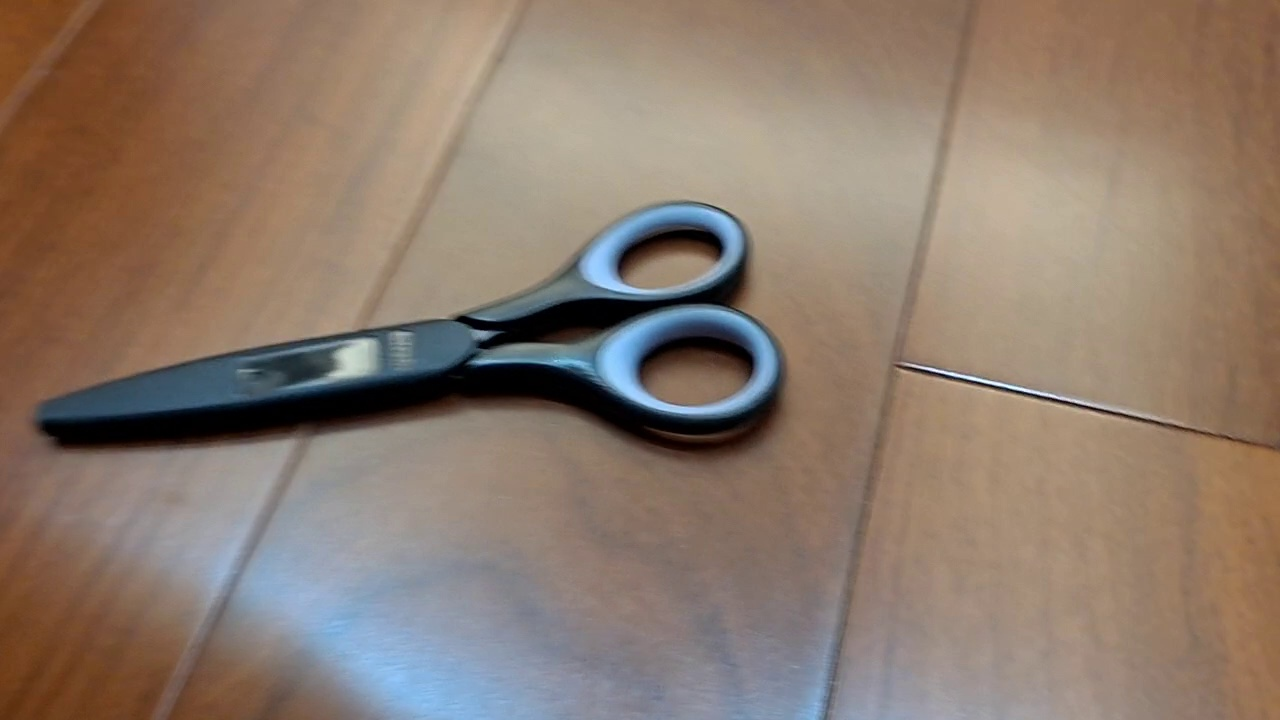scissors: (25, 197, 789, 454)
